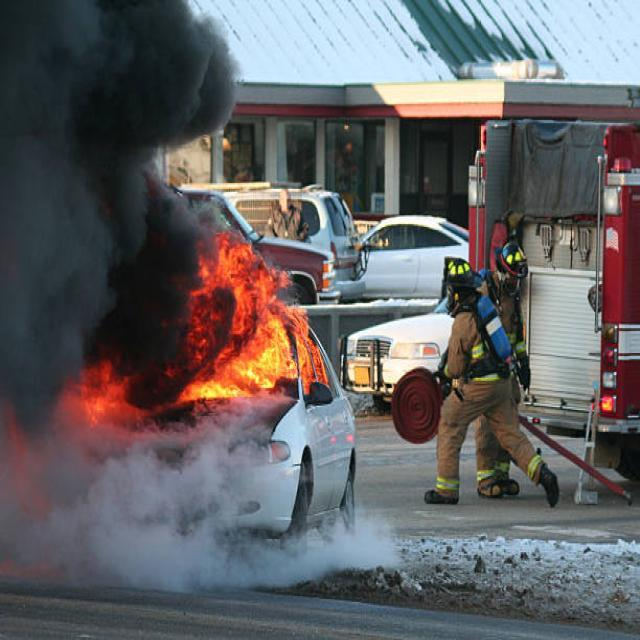Fire: (88, 232, 317, 442)
Smoke: (0, 0, 237, 370), (12, 362, 400, 588)
